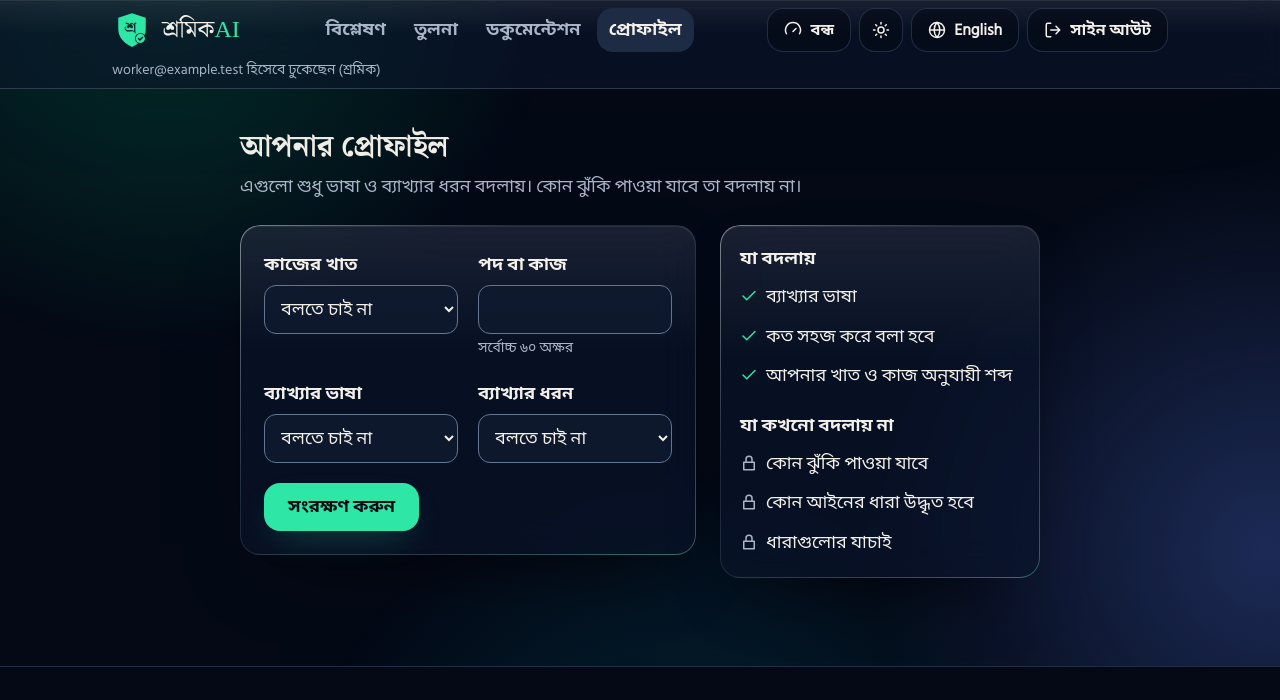
ProfilePage › FR-56 saves the chosen profile with PATCH /auth/me and says it was saved
Step 1. Select "নিরাপত্তা সেবা" in the dropdown labelled "কাজের খাত" → (361, 309), box [264, 284, 458, 334]
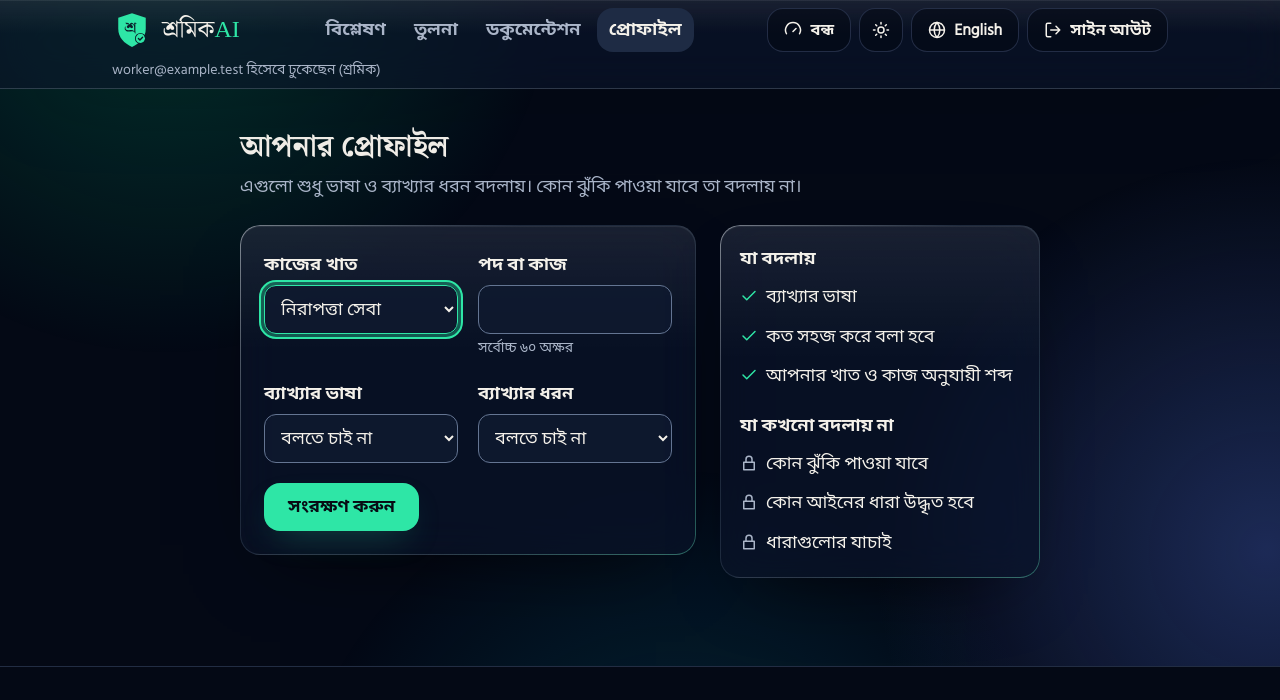
Step 2. Type "গার্ড" into the field labelled "পদ বা কাজ" → (575, 309), box [478, 284, 672, 334]
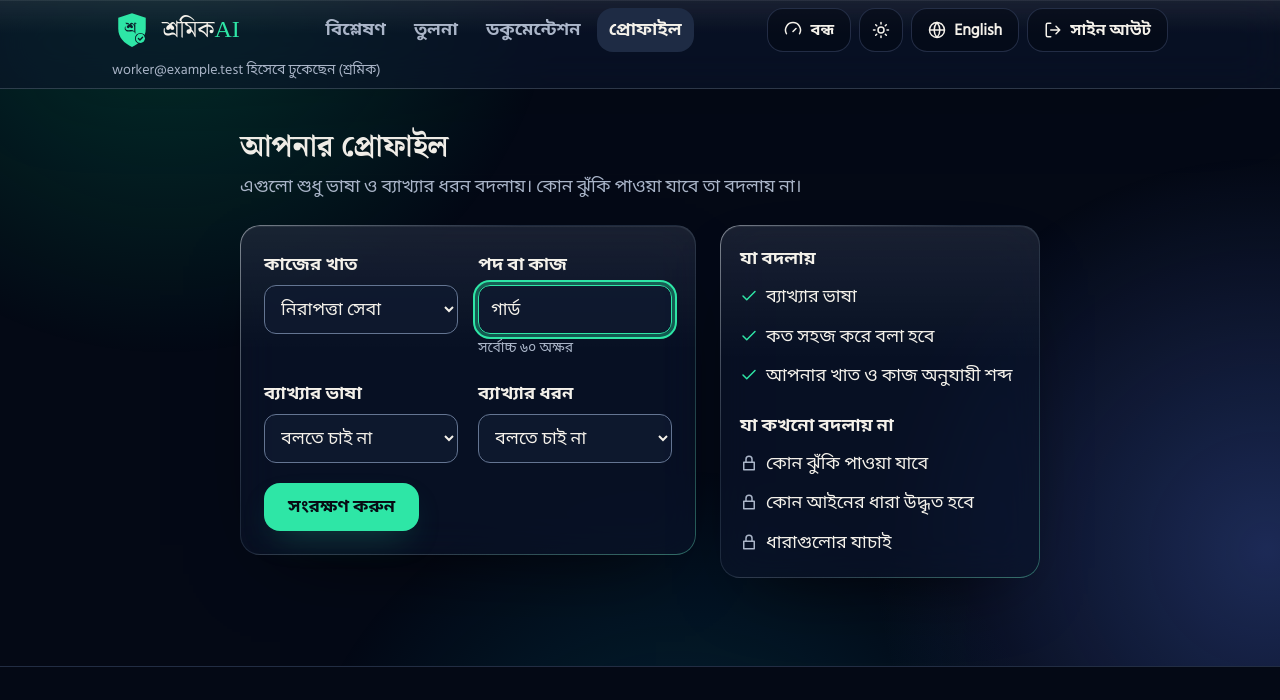
Step 3. Select "খুব সহজ ভাষায়" in the dropdown labelled "ব্যাখ্যার ধরন" → (575, 438), box [478, 414, 672, 462]
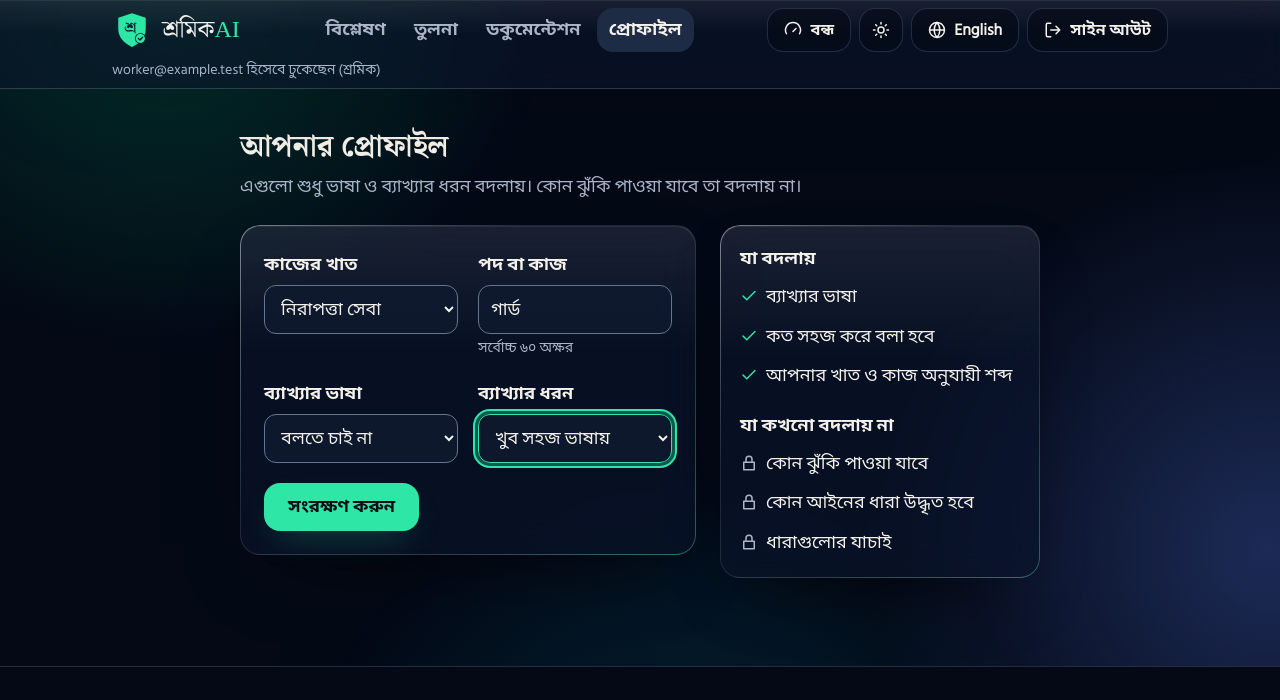
Step 4. Click the button "সংরক্ষণ করুন" → (342, 506), box [264, 482, 419, 530]
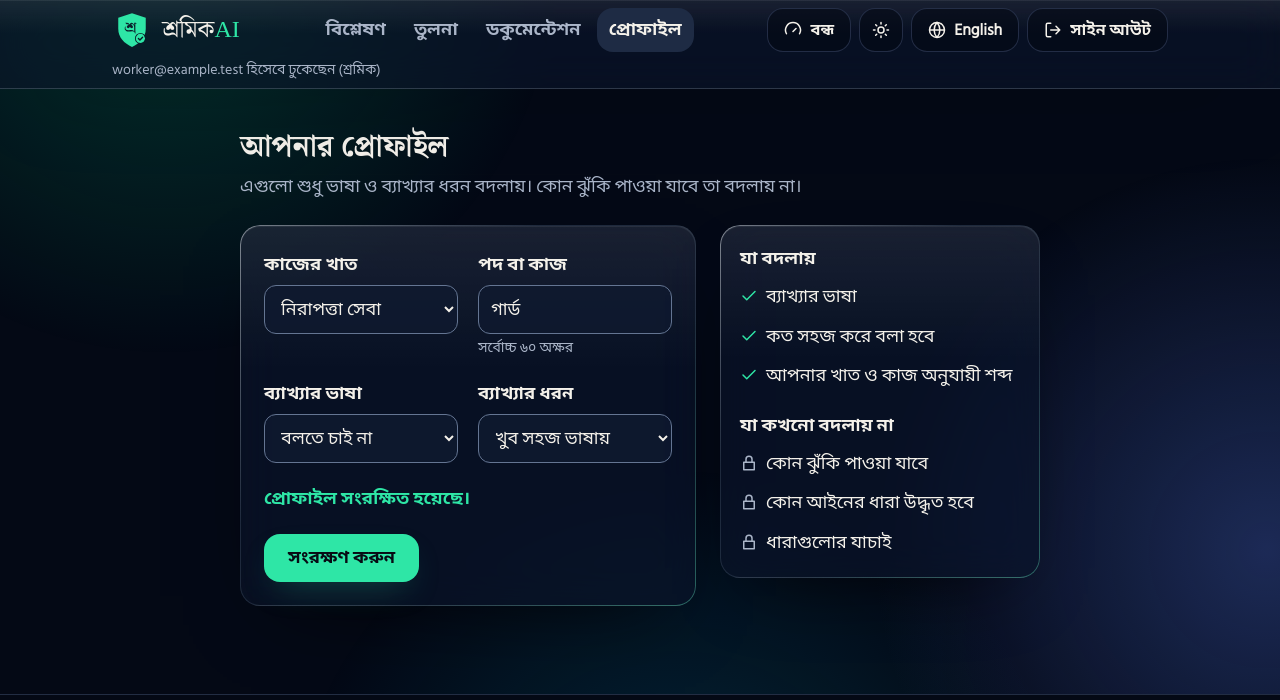
Expected: the text "প্রোফাইল সংরক্ষিত হয়েছে।" is shown, [264, 484, 470, 512]
